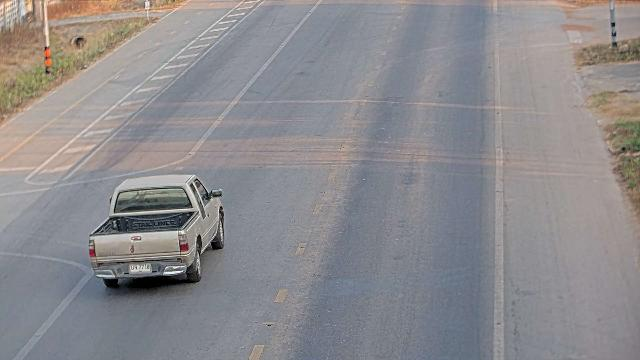pickup-truck: (87, 173, 225, 288)
